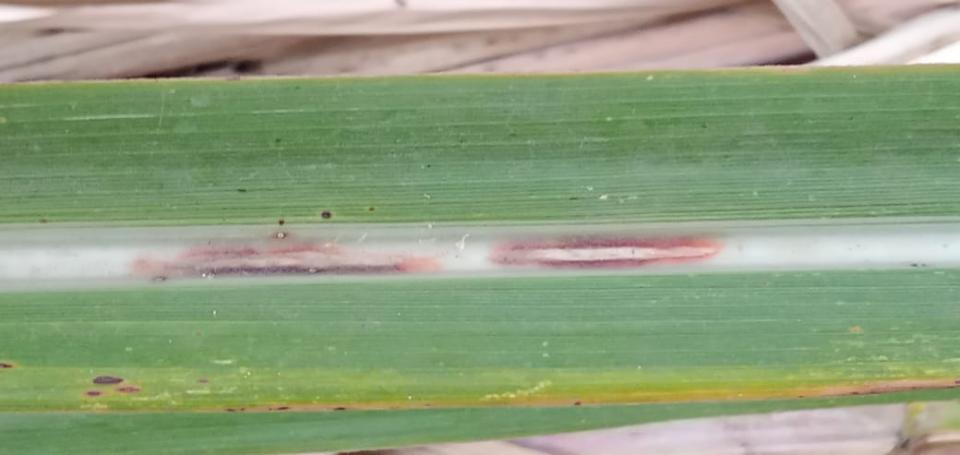RedRot: (124, 243, 447, 277), (485, 237, 725, 270), (268, 230, 295, 241)
Rust: (92, 375, 126, 385), (117, 386, 142, 393), (321, 210, 332, 220), (85, 391, 102, 397), (234, 187, 247, 194), (0, 363, 14, 369), (333, 406, 348, 411), (277, 219, 287, 226), (367, 206, 377, 213), (276, 406, 290, 411), (274, 138, 284, 145), (37, 217, 48, 223), (198, 379, 210, 384), (225, 407, 235, 412), (574, 400, 582, 406), (239, 408, 245, 412), (267, 407, 273, 411)
